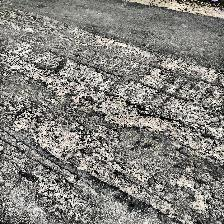pothole: (100, 96, 174, 134), (26, 62, 74, 94), (12, 110, 34, 130)
